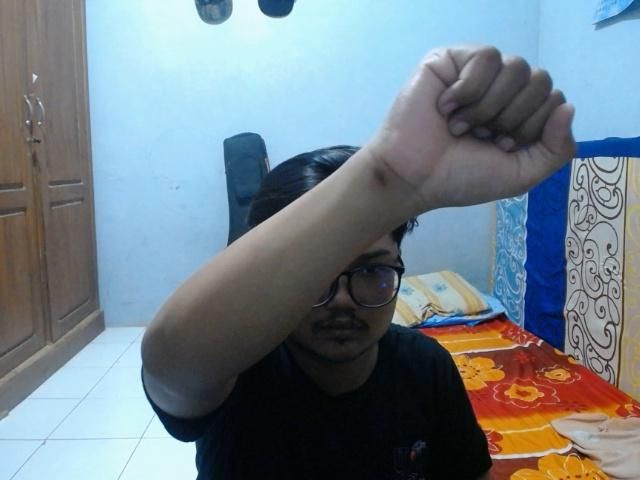Grab: (358, 36, 583, 213)
